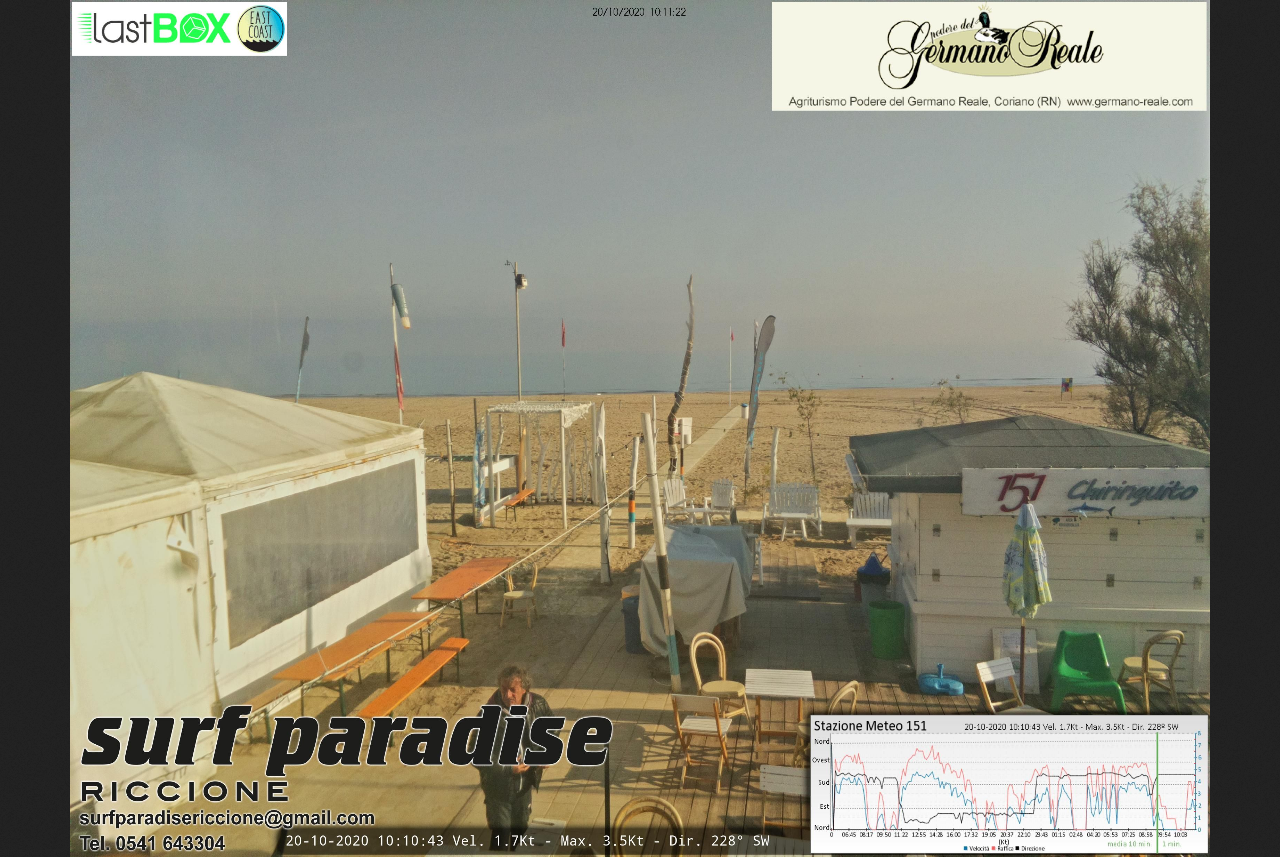no: (555, 319, 571, 355), (726, 329, 737, 350)
